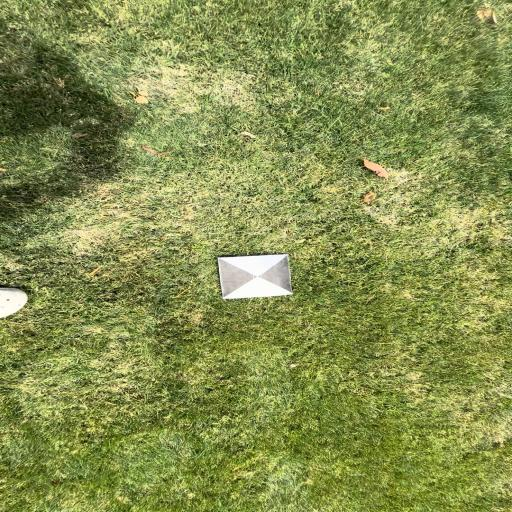target: (218, 254, 293, 298)
